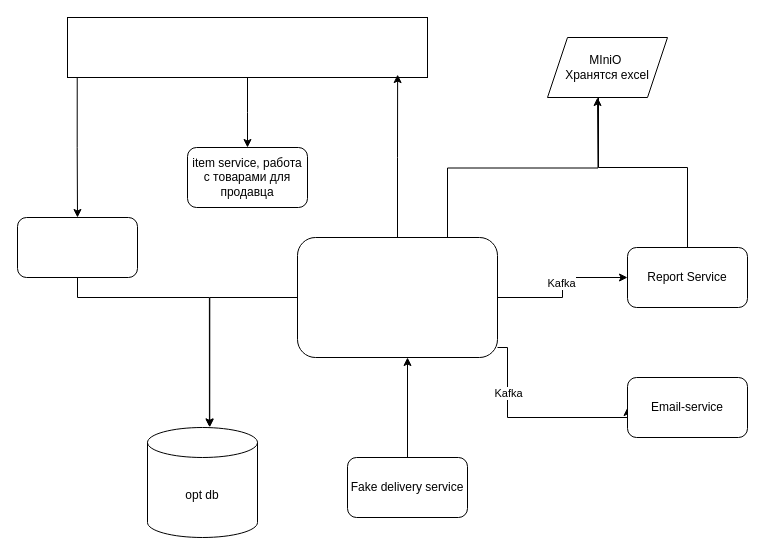
The diagram is 765 pixels wide and 555 high, and some of its shapes have lost their labels. Each missing label, with the box of its shape:
company service Auth + работа с пользователями: (16, 216, 138, 278)
OrderService: (296, 236, 498, 358)
Фронт: (66, 16, 428, 78)
